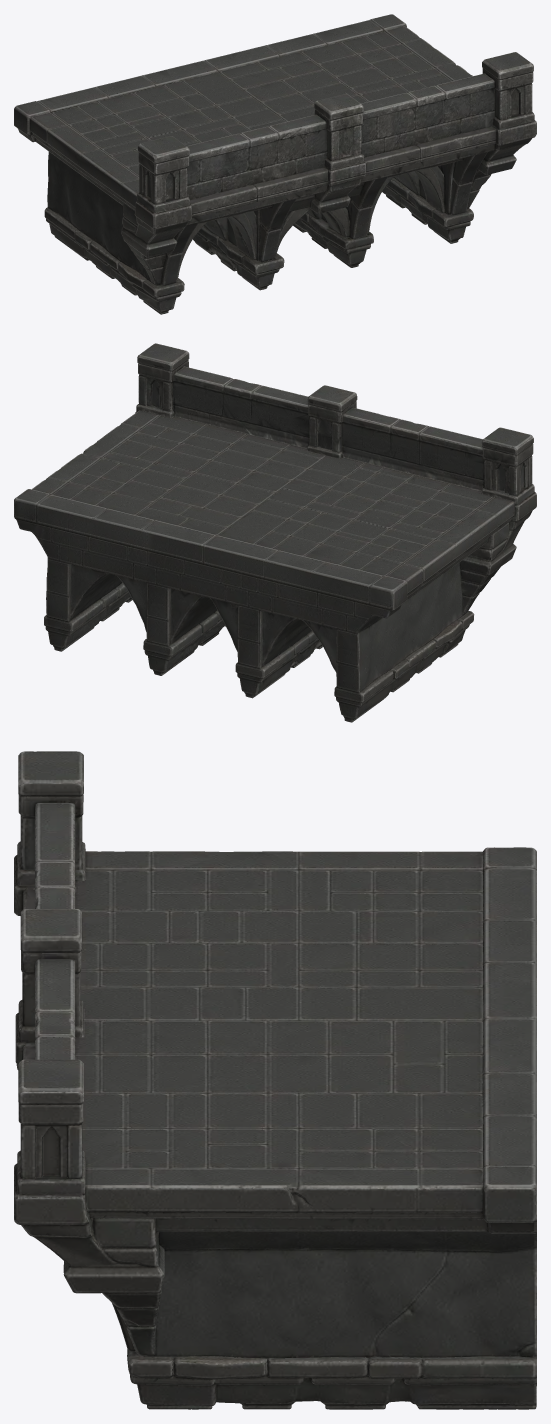
The model's file is Meshy_AI_A_single_standalone_m_0823050557_texture.glb.
The picture shows the model from 3 angles, top to bottom: view 1: azimuth 30°, elevation 25°; view 2: azimuth 150°, elevation 25°; view 3: azimuth 270°, elevation 25°; orthographic projection. The views are drawn at different scales.
Parts seen in each view (by area): view 1: mesh_node; view 2: mesh_node; view 3: mesh_node.
Part boxes in pixels (bbox=[...]): mesh_node: bbox=[14, 14, 536, 314]; mesh_node: bbox=[14, 343, 536, 722]; mesh_node: bbox=[14, 751, 536, 1409].
Size of the model in its own units: 1.9 by 0.9195 by 1.22.
Materials: 1 (1 with a texture image).
